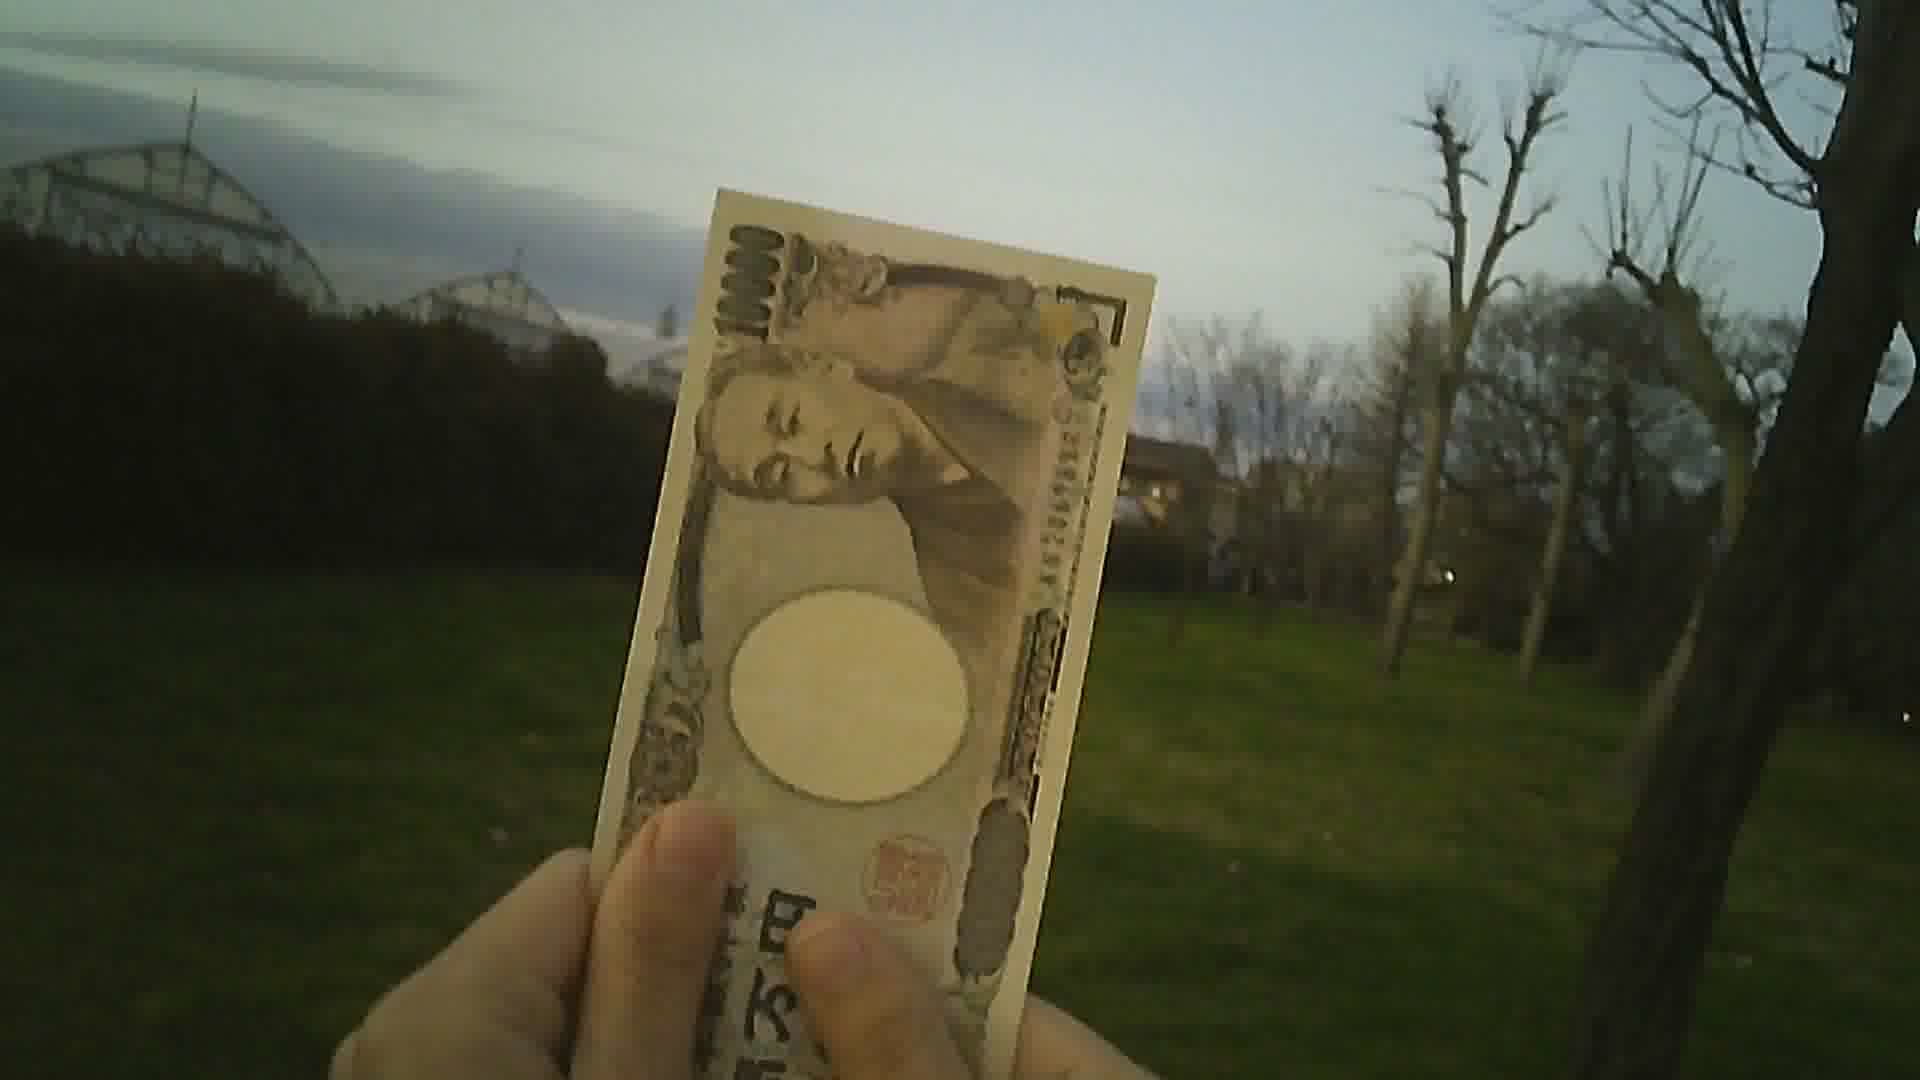10,000 Yen: (559, 167, 1124, 1065)
